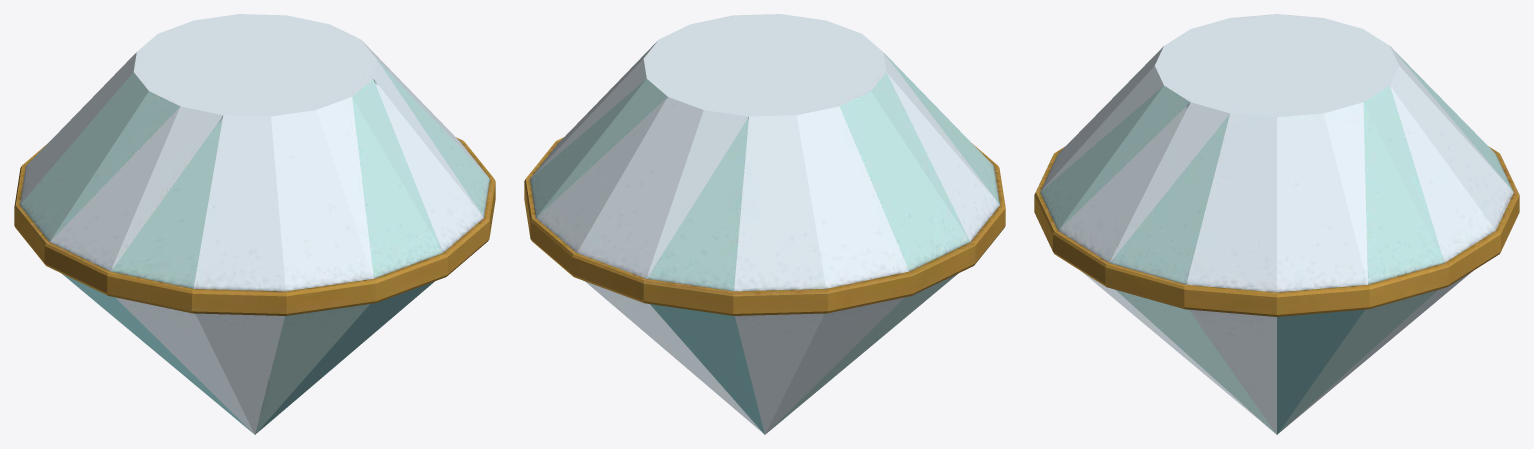
3 renders of one model, left to right at view 1: azimuth 30°, elevation 25°; view 2: azimuth 150°, elevation 25°; view 3: azimuth 270°, elevation 25°, orthographic.
Parts seen in each view (by area): view 1: Crystal_BlueWhite, Crystal_PaleTeal, Girdle_BrushedGold, Crystal_TealReflection; view 2: Crystal_BlueWhite, Crystal_PaleTeal, Girdle_BrushedGold, Crystal_TealReflection; view 3: Crystal_BlueWhite, Crystal_PaleTeal, Girdle_BrushedGold, Crystal_TealReflection.
Part boxes in pixels (box(x1,y1,x2,y2)): Crystal_BlueWhite: box(20, 14, 488, 434); Crystal_PaleTeal: box(20, 59, 489, 434); Girdle_BrushedGold: box(14, 137, 495, 315); Crystal_TealReflection: box(62, 274, 434, 434); Crystal_BlueWhite: box(530, 14, 999, 434); Crystal_PaleTeal: box(530, 53, 999, 432); Girdle_BrushedGold: box(524, 137, 1005, 315); Crystal_TealReflection: box(650, 304, 764, 434); Crystal_BlueWhite: box(1040, 14, 1513, 434); Crystal_PaleTeal: box(1040, 46, 1513, 434); Girdle_BrushedGold: box(1034, 146, 1519, 316); Crystal_TealReflection: box(1277, 309, 1364, 434).
Bounding box in the file's own units: 1 × 0.84 × 1.
4 materials, 4 textured.
